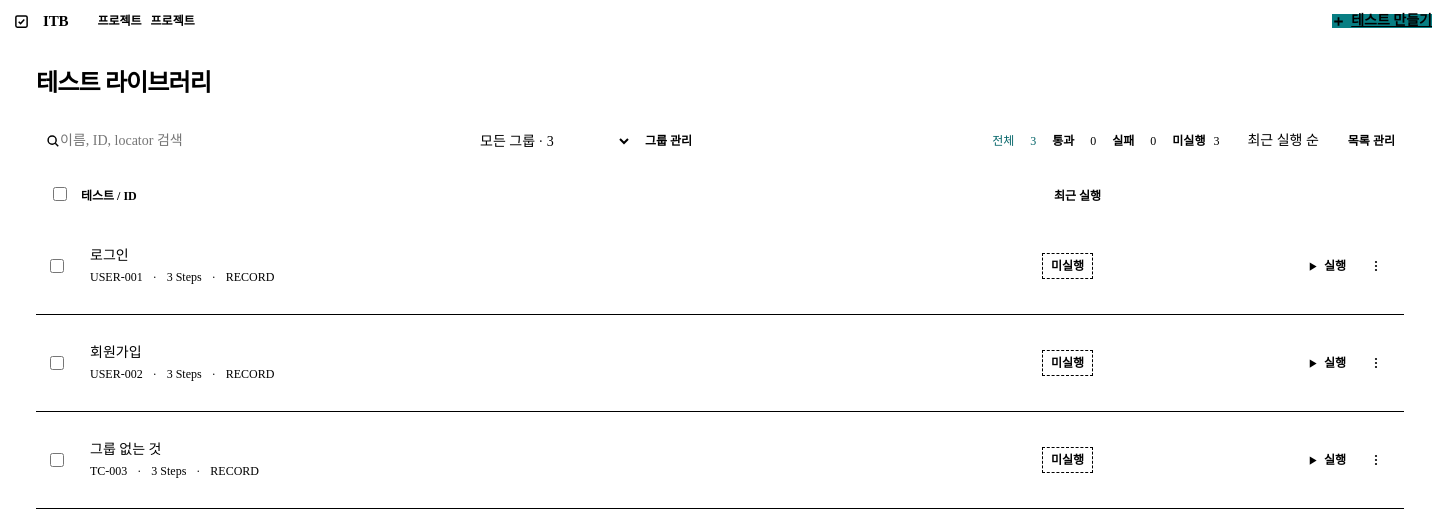
Test: 그룹이 있는 프로젝트 › 선택칸이 그룹만 남긴다 (FR-441)
expect the text "로그인" is shown: met, box [90,248,129,263]
Select "사용자관리 테스트 · 2" in the dropdown named "그룹으로 거르기" at [549, 141], box [466,124,632,158]
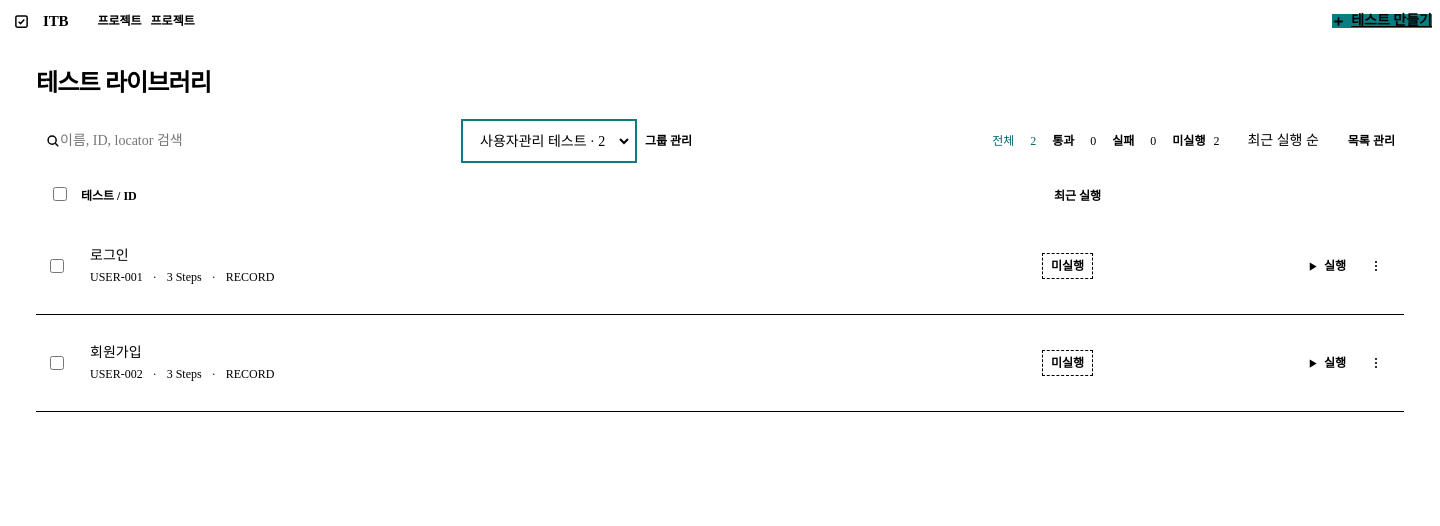
expect the text "그룹 없는 것" is gone: met
